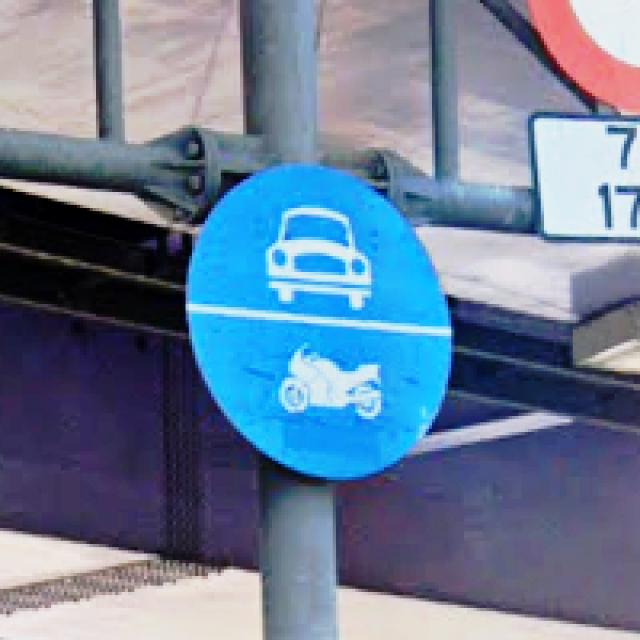carmotorcycle: (186, 166, 451, 480)
